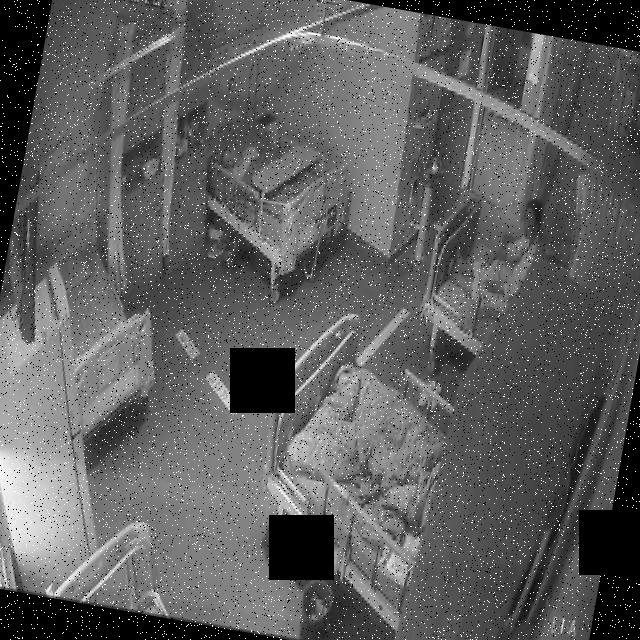bed: (246, 310, 464, 601), (193, 97, 360, 271), (33, 213, 170, 410), (414, 186, 534, 356)
patient: (444, 186, 548, 316), (217, 135, 268, 187)
sit: (440, 188, 547, 318)
